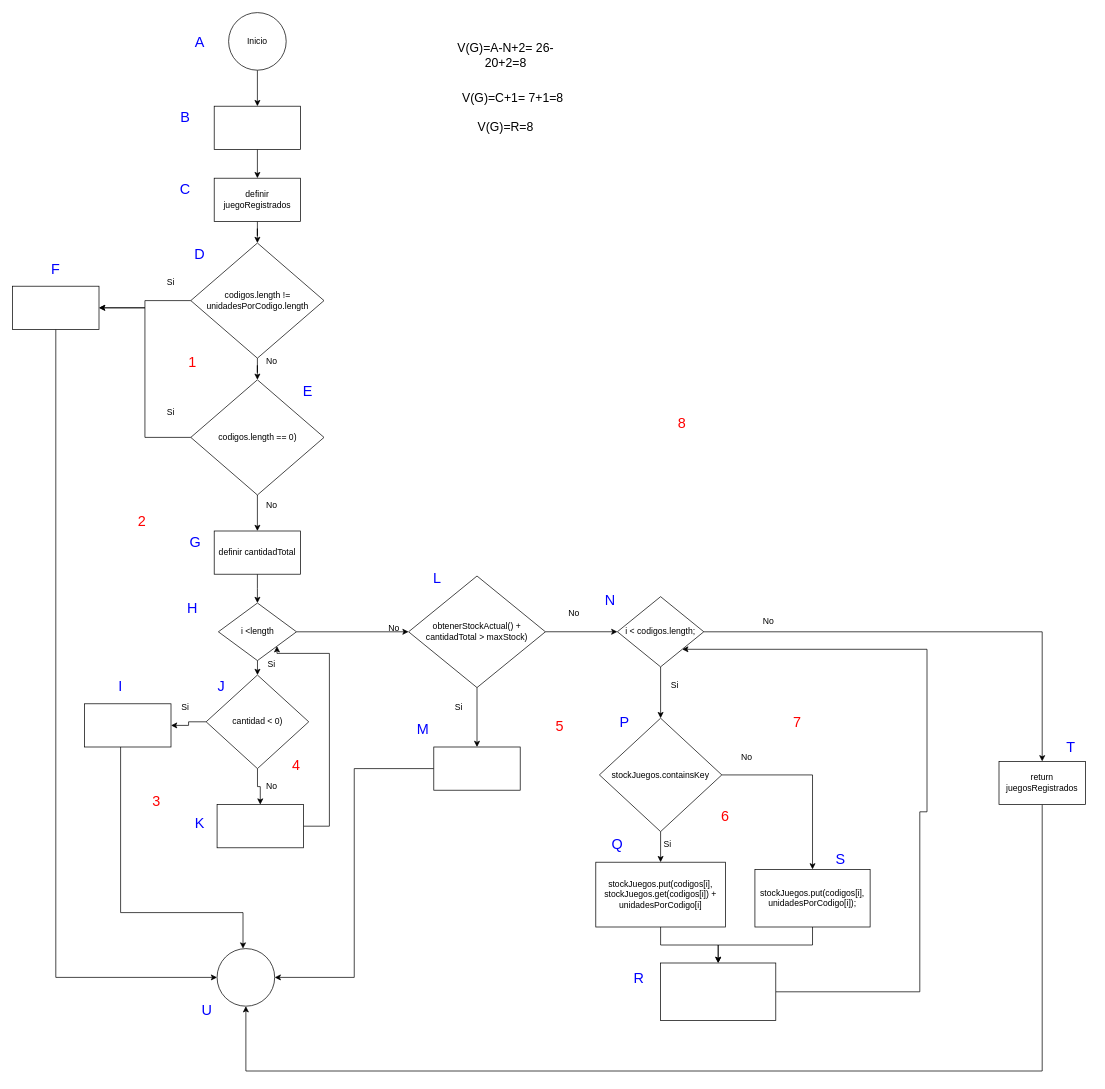
Image size: 1105x1089. Some labels were removed from this diagram. Here are the shapes that lost their labels. From the top down, the centre of each, then its label:
the point at 257,127: registrarLoteJuegos
the point at 55,307: return -1
the point at 127,725: return -2
the point at 476,768: return -3
the point at 259,826: cantidadTotal += cantidad;
the point at 245,977: Fin
the point at 718,991: juegosRegistrados += unidadesPorCodigo[i];
